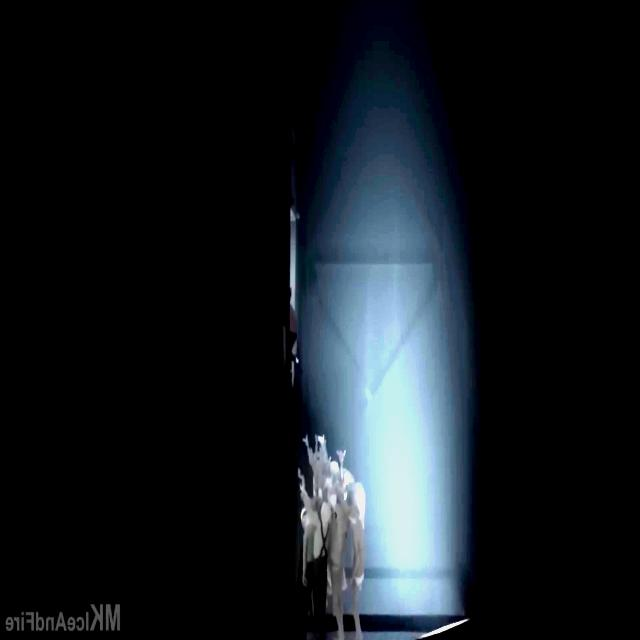zombie: (299, 481, 313, 640), (349, 506, 365, 640), (314, 499, 329, 640), (331, 503, 346, 640), (316, 476, 331, 497), (352, 479, 363, 504), (329, 458, 339, 475), (336, 483, 346, 500), (342, 470, 352, 486)
